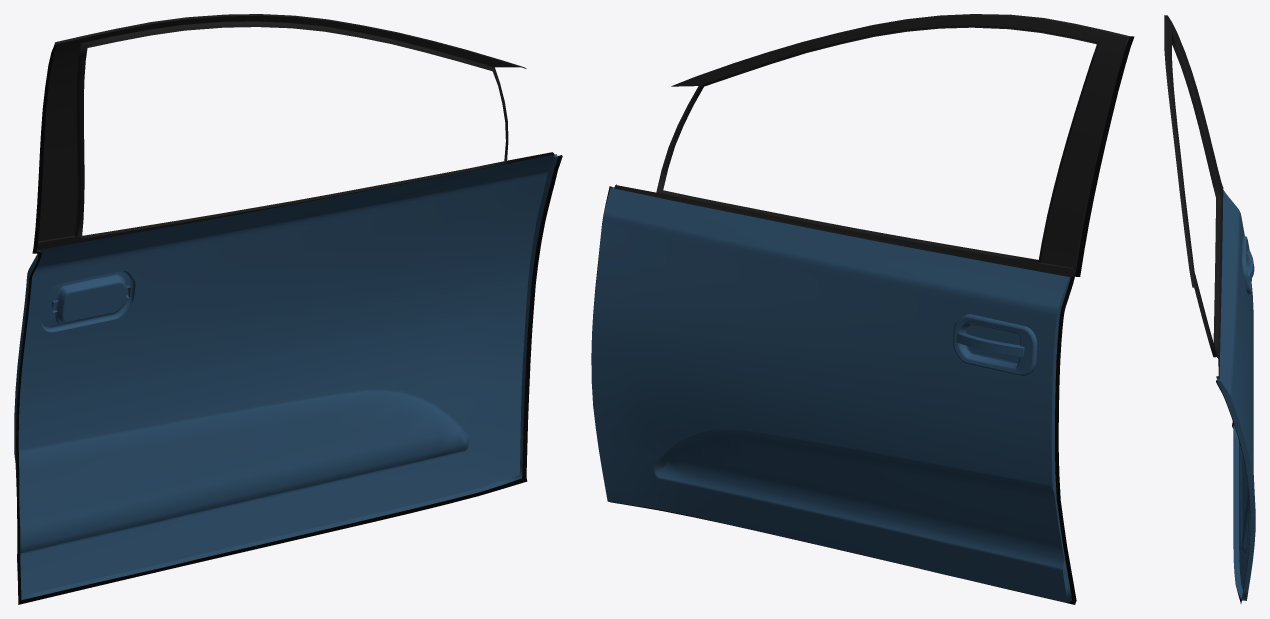
3 views of the same model, side by side, from view 1: azimuth 30°, elevation 25°; view 2: azimuth 150°, elevation 25°; view 3: azimuth 270°, elevation 25° (orthographic). The views are drawn at different scales.
Parts seen in each view (by area): view 1: Y191_13_261B_L_Y191_13_261B_L_1_DaS, Y191_13_261B_L_Y191_13_261B_L_1_DaS_E, Y191_13_261B_L_Y191_13_261B_L_2_D, Y191_13_261B_L_Y191_13_261B_L_4_D; view 2: Y191_13_261B_L_Y191_13_261B_L_1_DaS, Y191_13_261B_L_Y191_13_261B_L_1_DaS_E, Y191_13_261B_L_Y191_13_261B_L_2_D, Y191_13_261B_L_Y191_13_261B_L_4_D, Y191_13_261B_L_5_DaS_Y191_13_261B_L; view 3: Y191_13_261B_L_Y191_13_261B_L_1_DaS, Y191_13_261B_L_Y191_13_261B_L_2_D, Y191_13_261B_L_Y191_13_261B_L_1_DaS_E, Y191_13_261B_L_Y191_13_261B_L_4_D, Y191_13_261B_L_5_DaS_Y191_13_261B_L.
Part boxes in pixels (x1,y1,x2,y2): Y191_13_261B_L_Y191_13_261B_L_1_DaS: (14, 155, 554, 595); Y191_13_261B_L_Y191_13_261B_L_1_DaS_E: (14, 154, 558, 599); Y191_13_261B_L_Y191_13_261B_L_2_D: (36, 14, 554, 252); Y191_13_261B_L_Y191_13_261B_L_4_D: (16, 44, 562, 604); Y191_13_261B_L_Y191_13_261B_L_1_DaS: (591, 188, 1069, 602); Y191_13_261B_L_Y191_13_261B_L_1_DaS_E: (611, 187, 1071, 602); Y191_13_261B_L_Y191_13_261B_L_2_D: (614, 14, 1129, 276); Y191_13_261B_L_Y191_13_261B_L_4_D: (593, 36, 1134, 604); Y191_13_261B_L_5_DaS_Y191_13_261B_L: (956, 332, 1024, 357); Y191_13_261B_L_Y191_13_261B_L_1_DaS: (1219, 190, 1254, 589); Y191_13_261B_L_Y191_13_261B_L_2_D: (1164, 15, 1223, 379); Y191_13_261B_L_Y191_13_261B_L_1_DaS_E: (1216, 236, 1255, 600); Y191_13_261B_L_Y191_13_261B_L_4_D: (1216, 380, 1250, 603); Y191_13_261B_L_5_DaS_Y191_13_261B_L: (1246, 250, 1254, 282).
Bounding box in the file's own units: 105 × 111 × 22.39.
